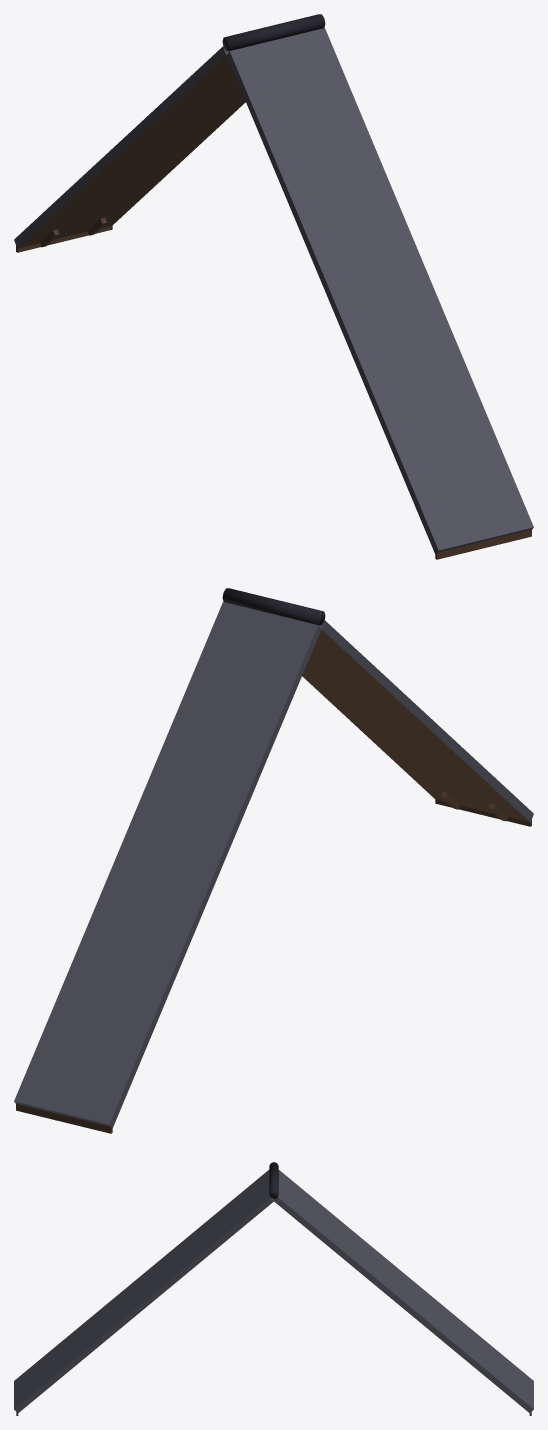
File: kit_stone_slate_w7.glb
3 views of the same model, one above another, from view 1: azimuth 30°, elevation 25°; view 2: azimuth 150°, elevation 25°; view 3: azimuth 270°, elevation 25° (orthographic). The views are drawn at different scales.
Visible parts, largest first — view 1: kit_stone_slate_w7; view 2: kit_stone_slate_w7; view 3: kit_stone_slate_w7.
Part boxes in pixels (x1=…): kit_stone_slate_w7: x1=14, y1=14, x2=533, y2=559; kit_stone_slate_w7: x1=14, y1=588, x2=533, y2=1133; kit_stone_slate_w7: x1=14, y1=1162, x2=533, y2=1415.
Bounding box in the file's own units: 1 × 3.69 × 7.72.
